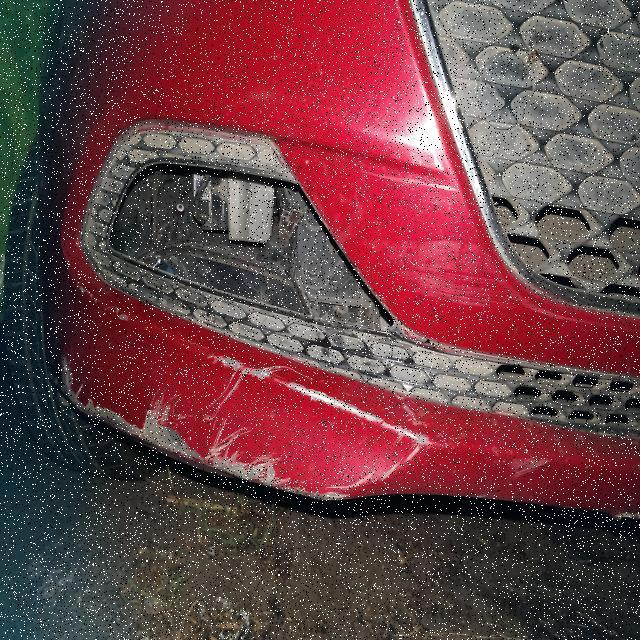front-bumper-dent: (0, 91, 545, 512)
